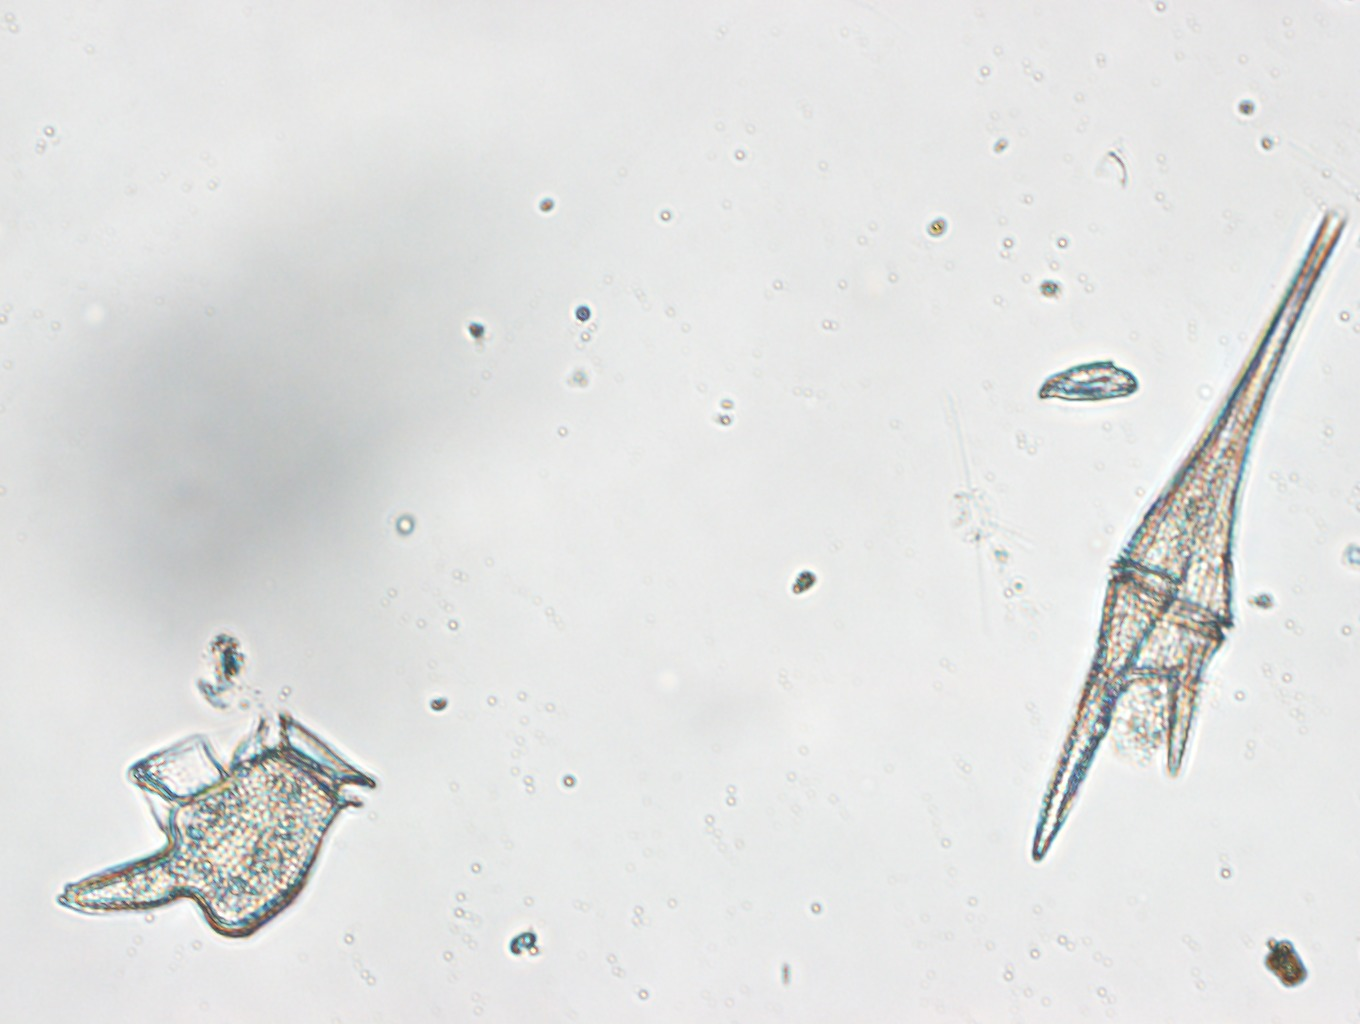ceratium furca: (1030, 202, 1345, 865)
dinophysis caudata: (55, 710, 375, 939)
